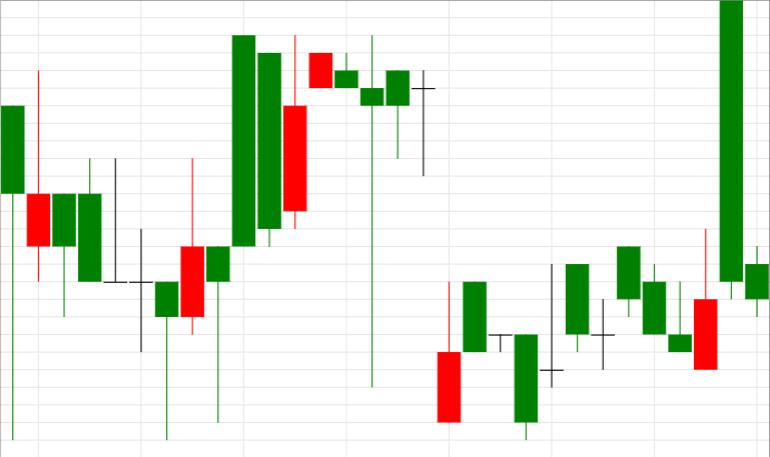hammer_rise: (1, 69, 178, 441)
